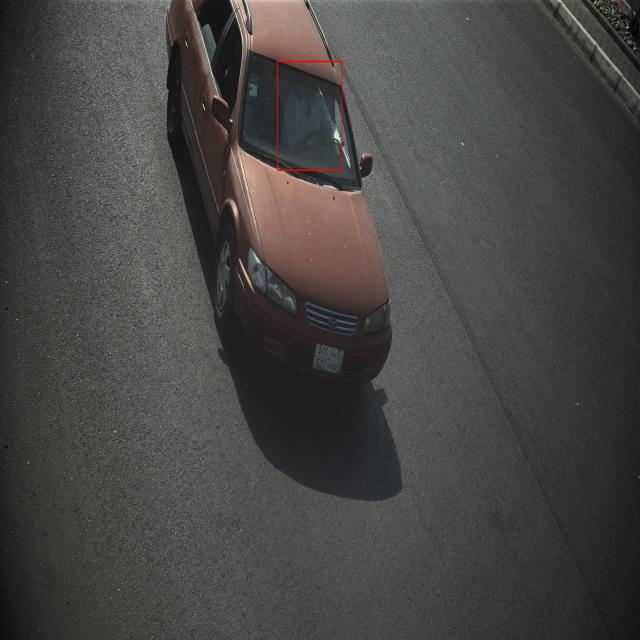windshield: (237, 47, 362, 192)
